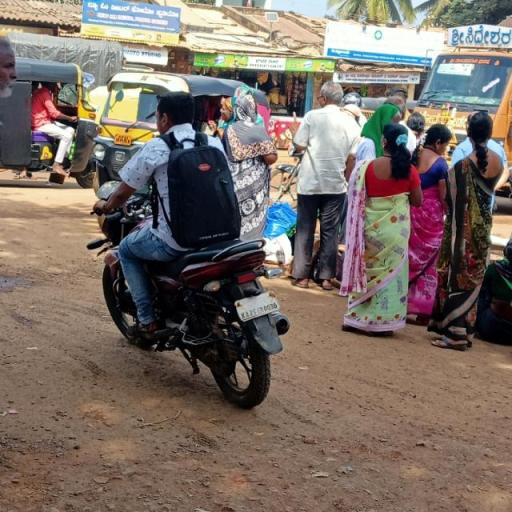bike: (84, 88, 306, 408)
numberplate: (231, 288, 287, 322)
withouthelmet: (154, 92, 196, 131)
